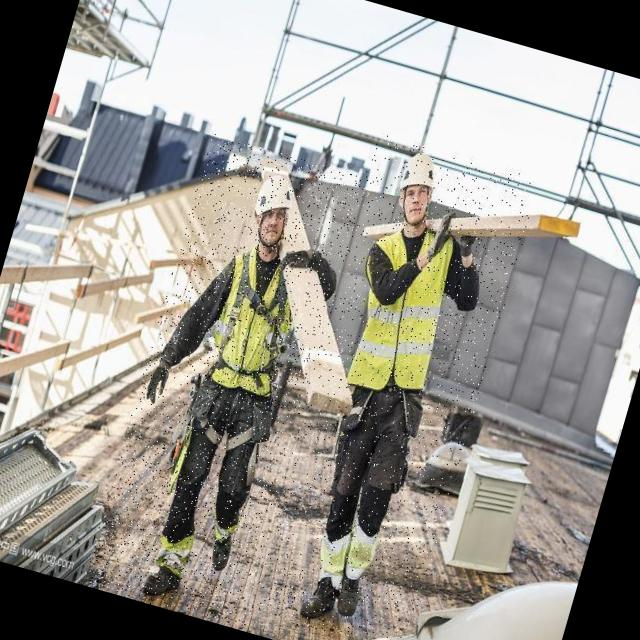hard_hat: (245, 166, 307, 236), (391, 142, 452, 208)
safety_vest: (325, 202, 484, 416), (190, 226, 326, 408)
vehicle: (241, 133, 540, 640), (83, 132, 373, 628)
work_boots: (128, 547, 195, 613), (290, 563, 348, 634), (198, 522, 245, 584), (330, 570, 372, 626)
